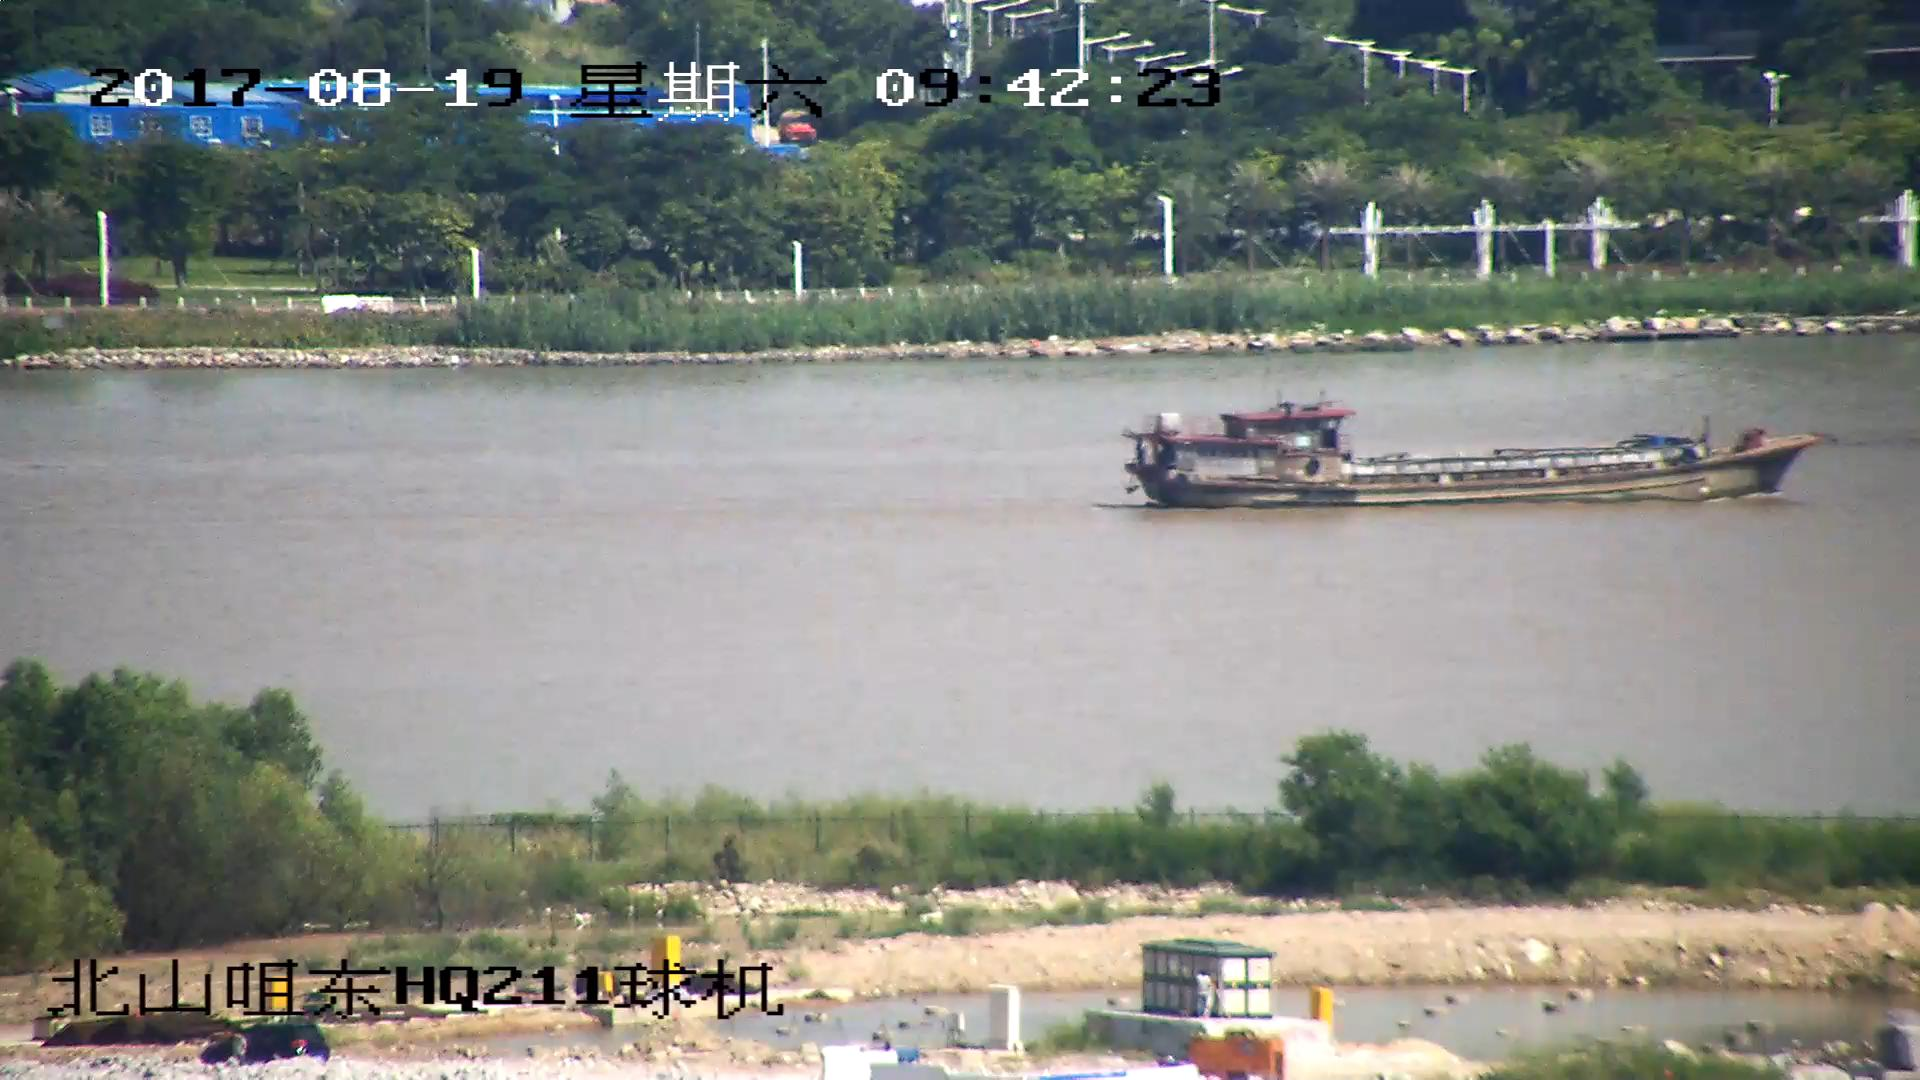fishing boat: (1122, 406, 1827, 510)
